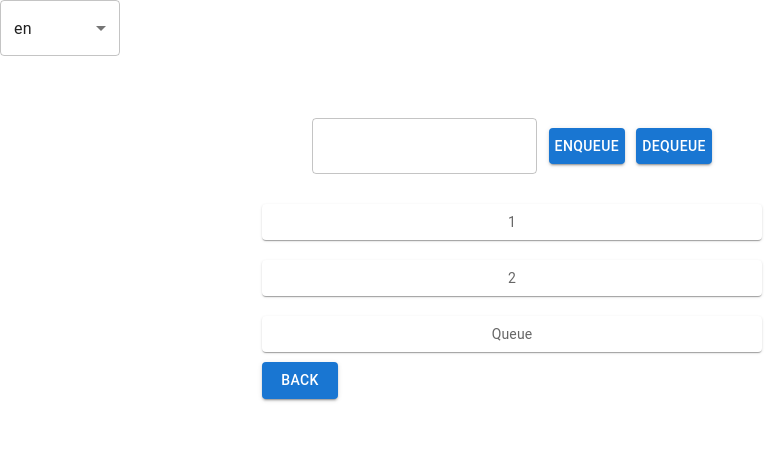
Test: Testing "/queue" route › Should add new list item
Step 1. Type "Test item" into the field with test id "data-list-text-input" → coordinates (425, 146), box [312,118,537,174]
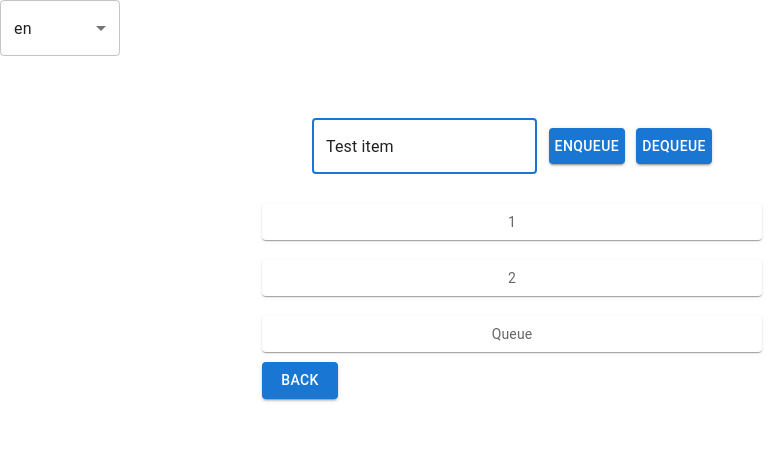
Step 2. Click the button with test id "data-list-add-button" → coordinates (587, 147), box [549,128,625,165]
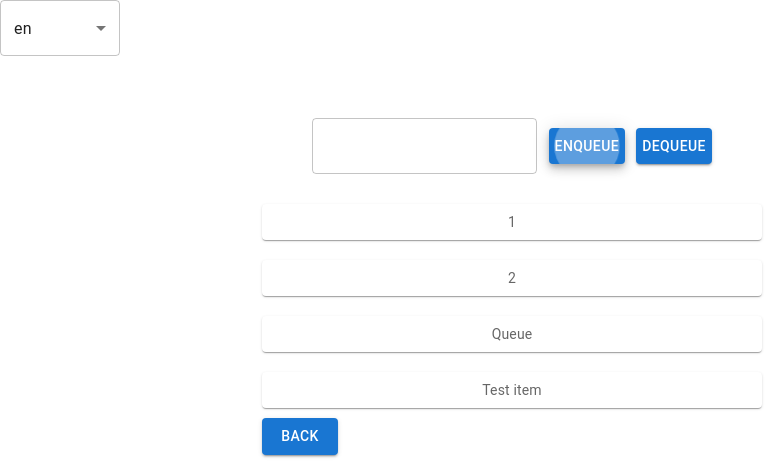
Expected: the text "Test item" is shown, [262,372,762,408]
